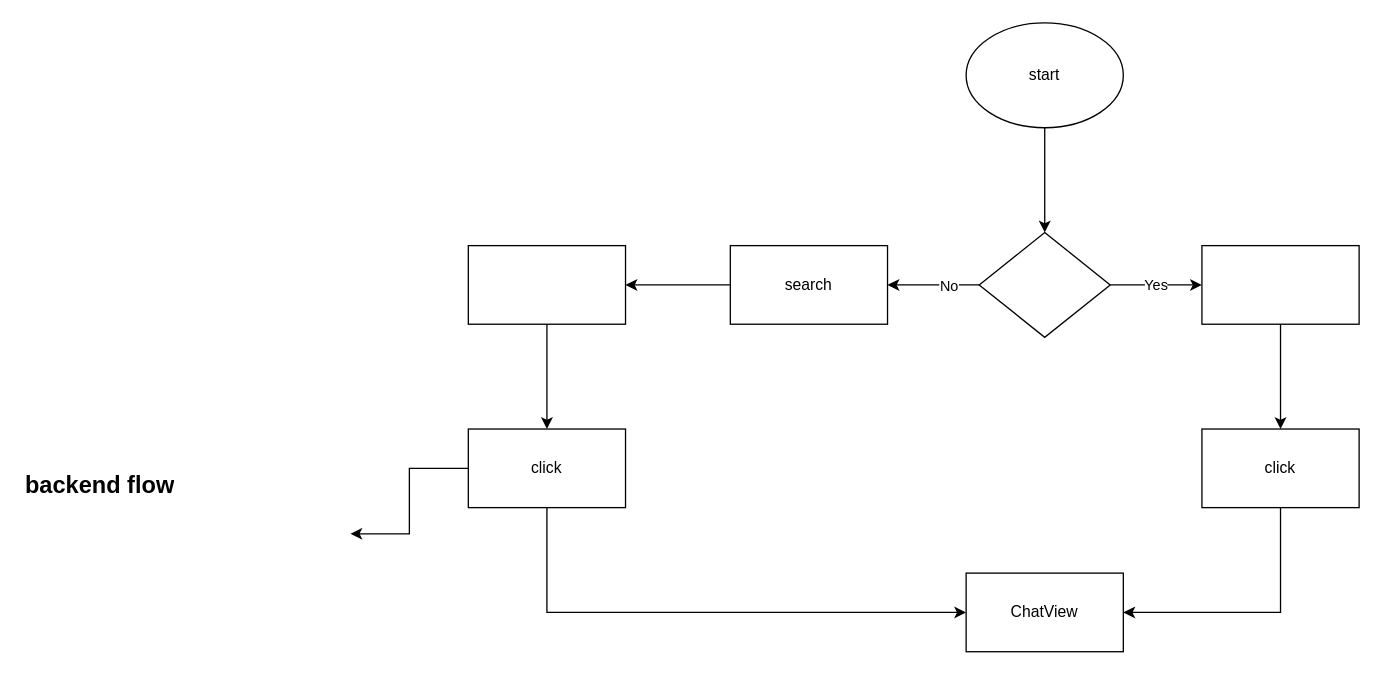
The diagram is 1382 pixels wide and 675 high, and some of its shapes have lost their labels. Each missing label, with the box of its shape:
chat already?: (978, 231, 1110, 337)
ChatItem: (1201, 244, 1359, 324)
ContactResult: (467, 244, 626, 324)
